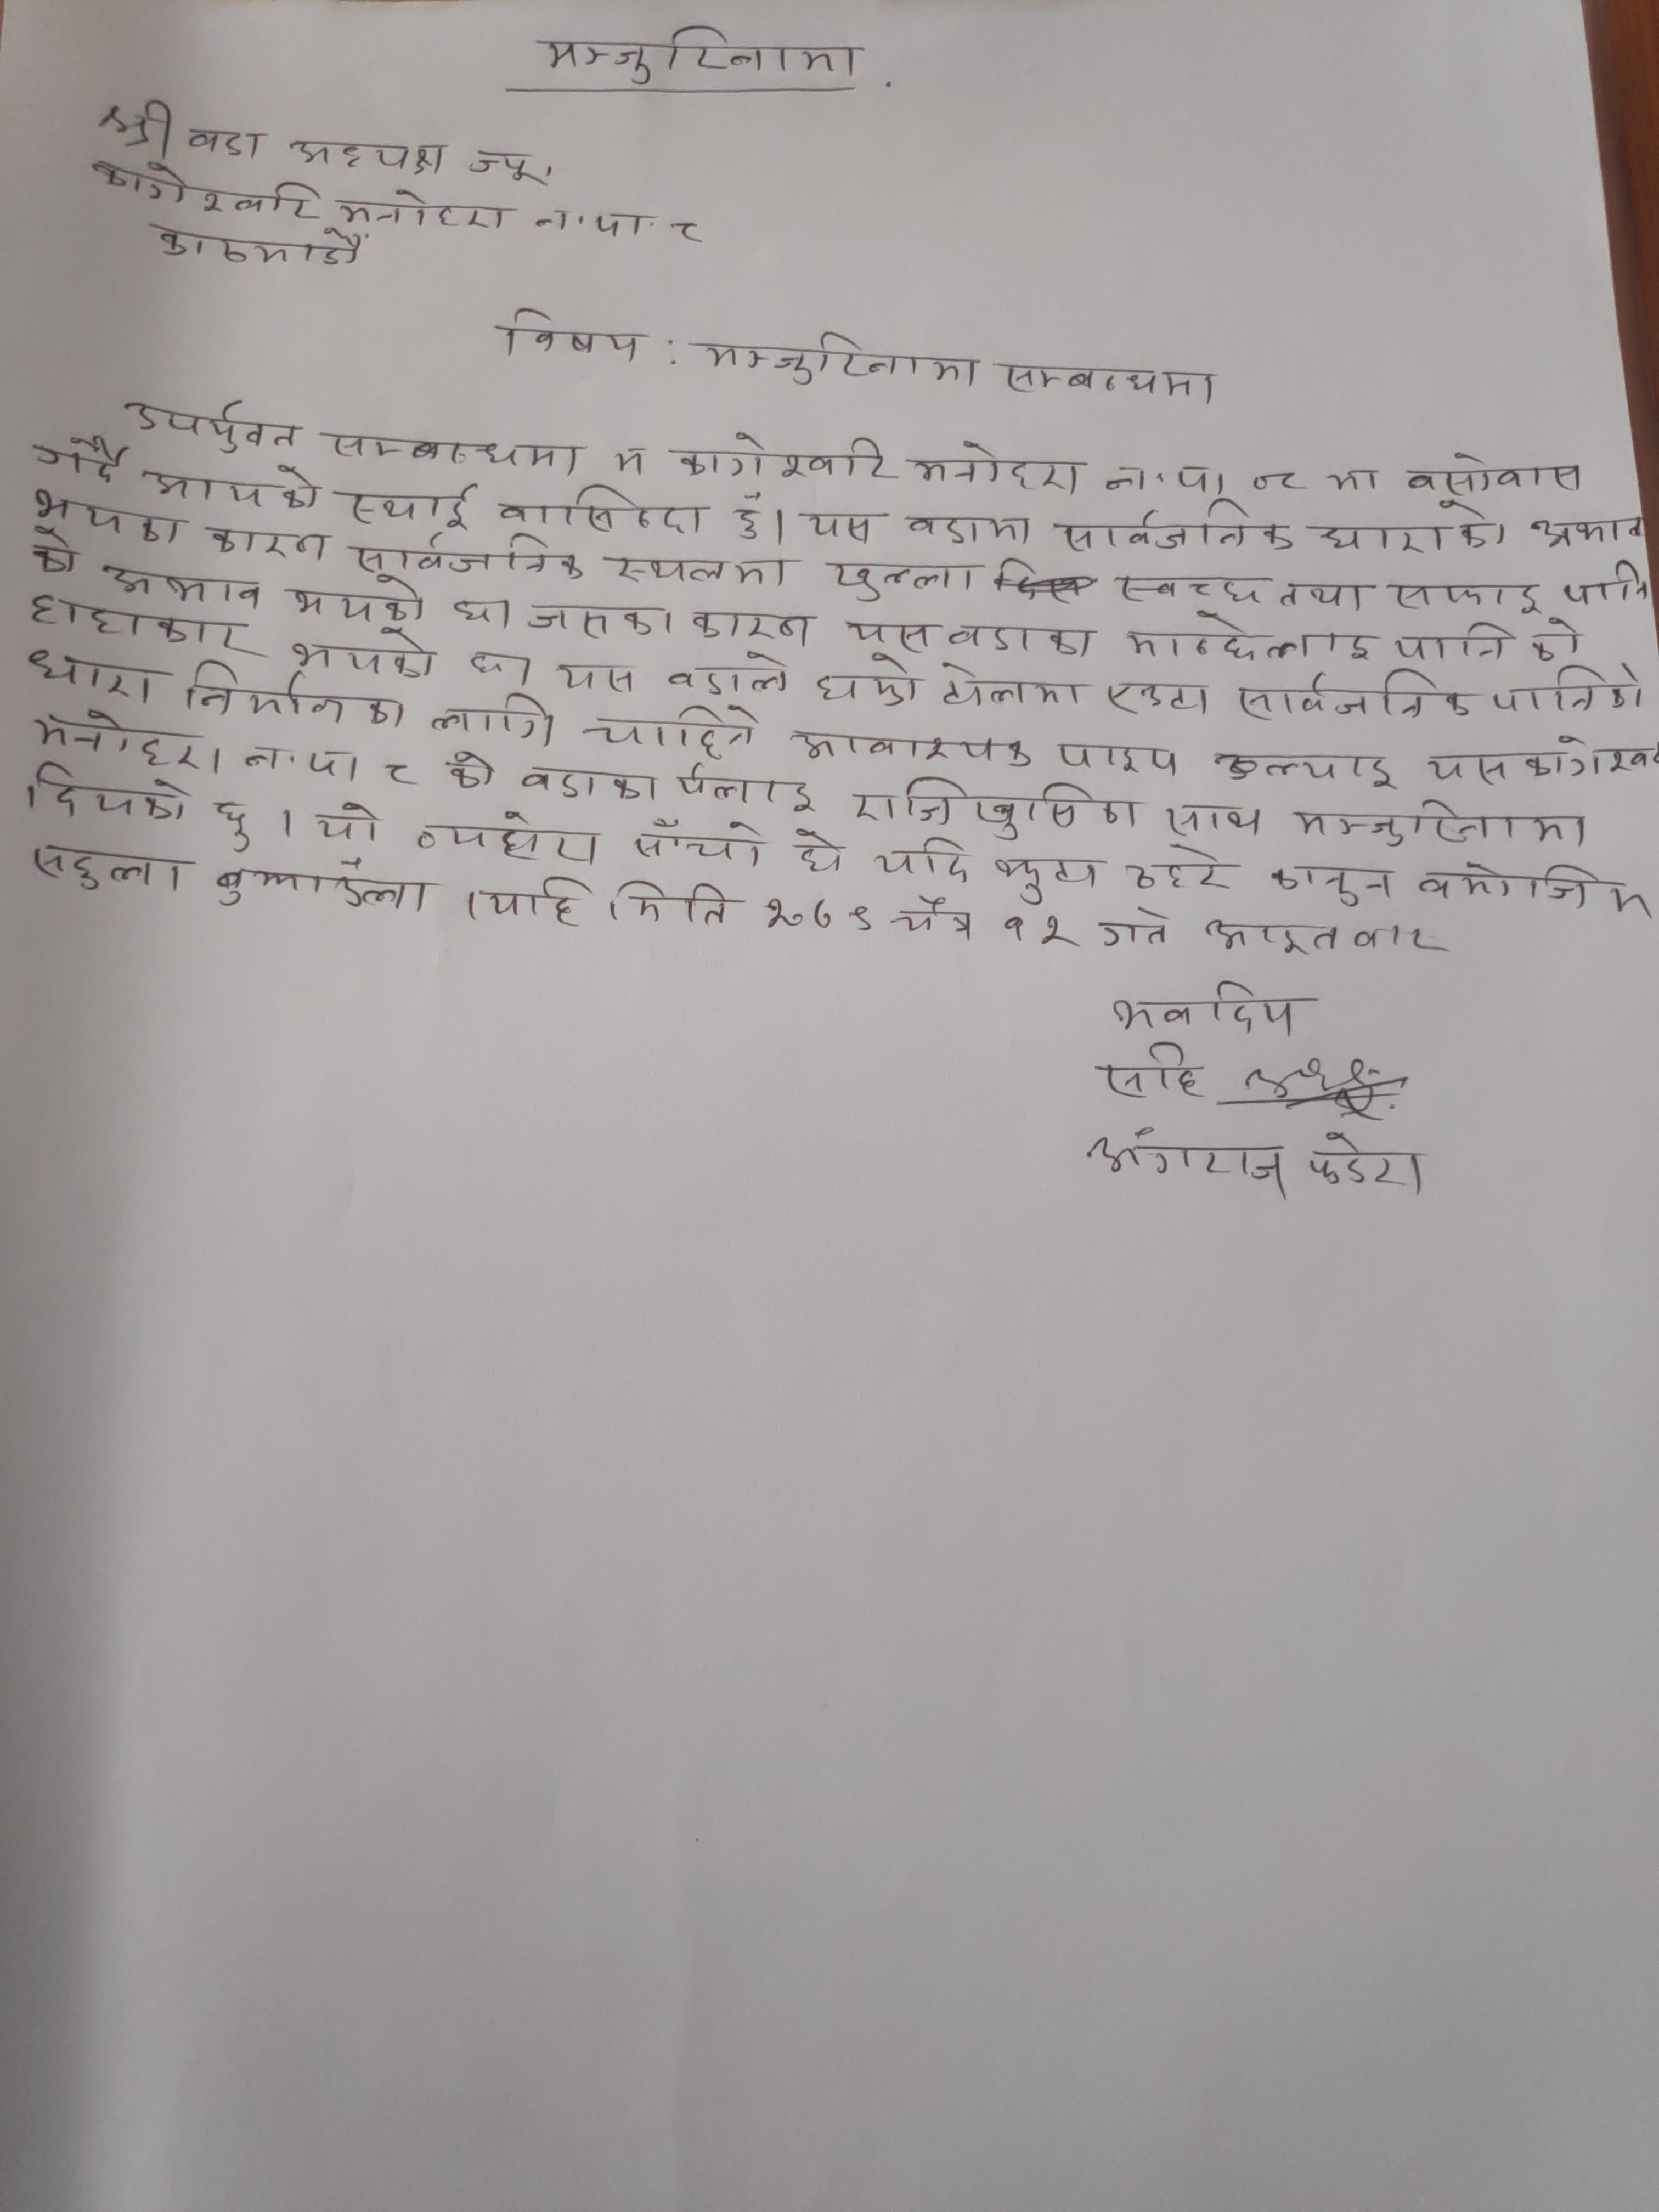text: (528, 19, 866, 89), (836, 772, 1138, 845), (697, 331, 983, 395), (1288, 796, 1596, 855), (181, 660, 413, 738), (1227, 662, 1476, 733), (1408, 853, 1659, 920), (1084, 1120, 1297, 1197), (26, 589, 258, 658), (1117, 611, 1373, 674), (96, 155, 319, 225), (326, 421, 586, 477), (674, 423, 897, 488), (202, 859, 437, 920), (1419, 733, 1659, 791), (1002, 352, 1220, 413), (1101, 977, 1314, 1038), (1192, 914, 1445, 965), (1047, 505, 1295, 556), (784, 719, 1032, 770), (35, 714, 228, 779), (343, 533, 589, 583), (119, 392, 301, 456), (491, 488, 711, 540), (901, 439, 1087, 500), (10, 763, 192, 826), (1317, 502, 1514, 559), (153, 219, 368, 272), (1300, 1123, 1438, 1204), (577, 704, 762, 763), (493, 303, 648, 373), (21, 840, 192, 902), (131, 463, 326, 517), (1382, 617, 1593, 665), (413, 820, 606, 873), (929, 658, 1094, 719), (16, 489, 185, 549), (606, 545, 796, 597), (525, 202, 713, 254), (1399, 449, 1593, 500), (281, 624, 439, 685), (516, 747, 666, 810), (96, 559, 274, 611), (333, 185, 512, 235), (671, 752, 821, 812), (1211, 747, 1398, 794), (427, 688, 563, 751), (455, 871, 591, 934), (824, 549, 981, 603), (979, 840, 1103, 907), (286, 136, 457, 185), (28, 650, 160, 712), (627, 813, 765, 873), (1486, 672, 1652, 721), (1087, 1040, 1209, 1104), (1262, 853, 1396, 911), (601, 881, 739, 935), (660, 643, 786, 702), (1098, 669, 1218, 730), (945, 615, 1100, 662), (1121, 840, 1239, 900), (295, 575, 436, 625), (525, 594, 678, 639), (340, 482, 486, 529), (678, 601, 819, 650), (812, 651, 922, 714), (1108, 568, 1269, 610), (202, 516, 333, 566), (901, 505, 1039, 552), (240, 742, 368, 791), (1384, 578, 1544, 617), (1155, 794, 1270, 846), (1100, 456, 1230, 502), (1056, 735, 1187, 780), (758, 892, 882, 939), (875, 831, 972, 890), (96, 94, 183, 155), (1089, 902, 1182, 958), (1556, 561, 1654, 611), (843, 611, 941, 660), (26, 434, 120, 484), (896, 894, 990, 944), (990, 906, 1080, 956), (1269, 580, 1377, 622), (1530, 505, 1622, 554), (464, 139, 552, 190), (181, 117, 272, 165), (558, 660, 648, 709), (800, 496, 885, 545), (308, 798, 383, 852), (786, 819, 849, 883), (443, 749, 516, 796), (26, 524, 89, 578), (209, 792, 260, 852), (725, 482, 765, 543), (382, 752, 429, 803), (448, 589, 498, 634), (603, 441, 657, 482), (1328, 462, 1384, 502), (1248, 463, 1302, 502), (462, 639, 512, 678)
